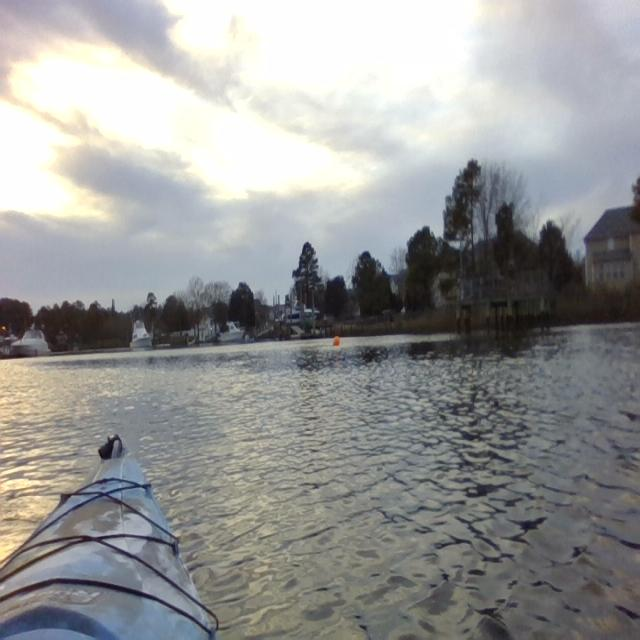Buoy: (331, 333, 341, 348)
